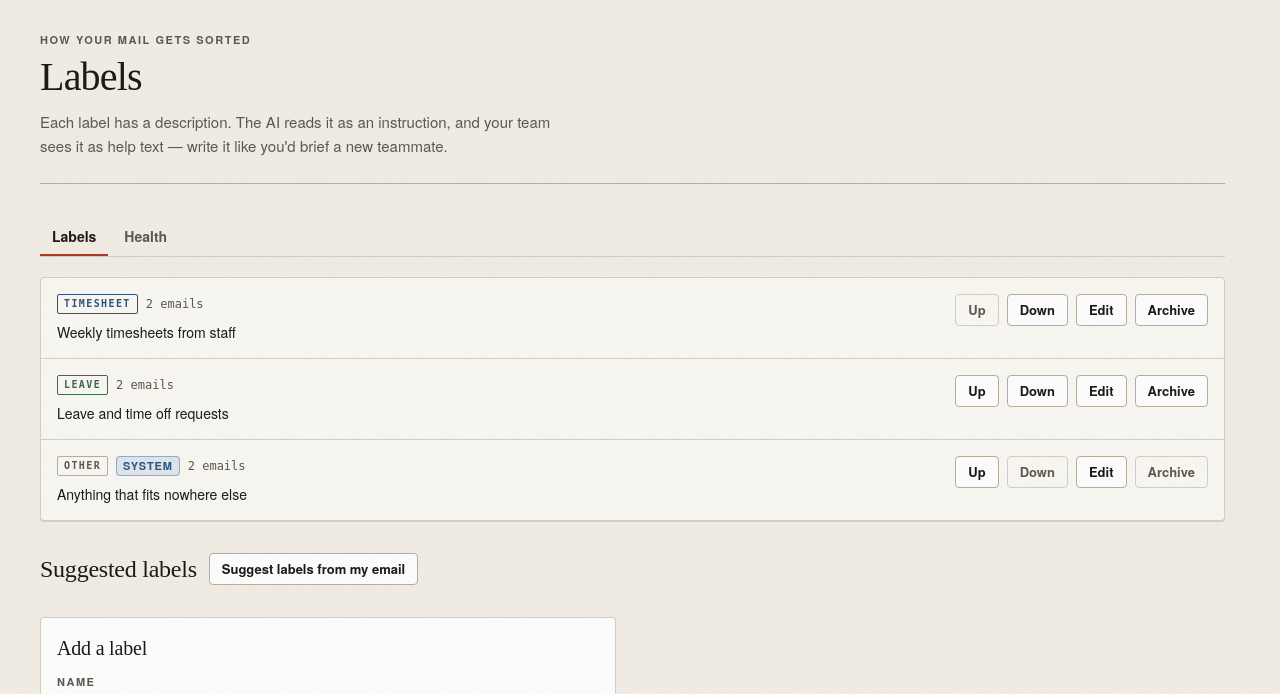
Test: Label health › shows the headline, a row per label with a plain-words badge, sparklines and advice
Click the tab "Health": (146, 236) x1=112 y1=216 x2=179 y2=256
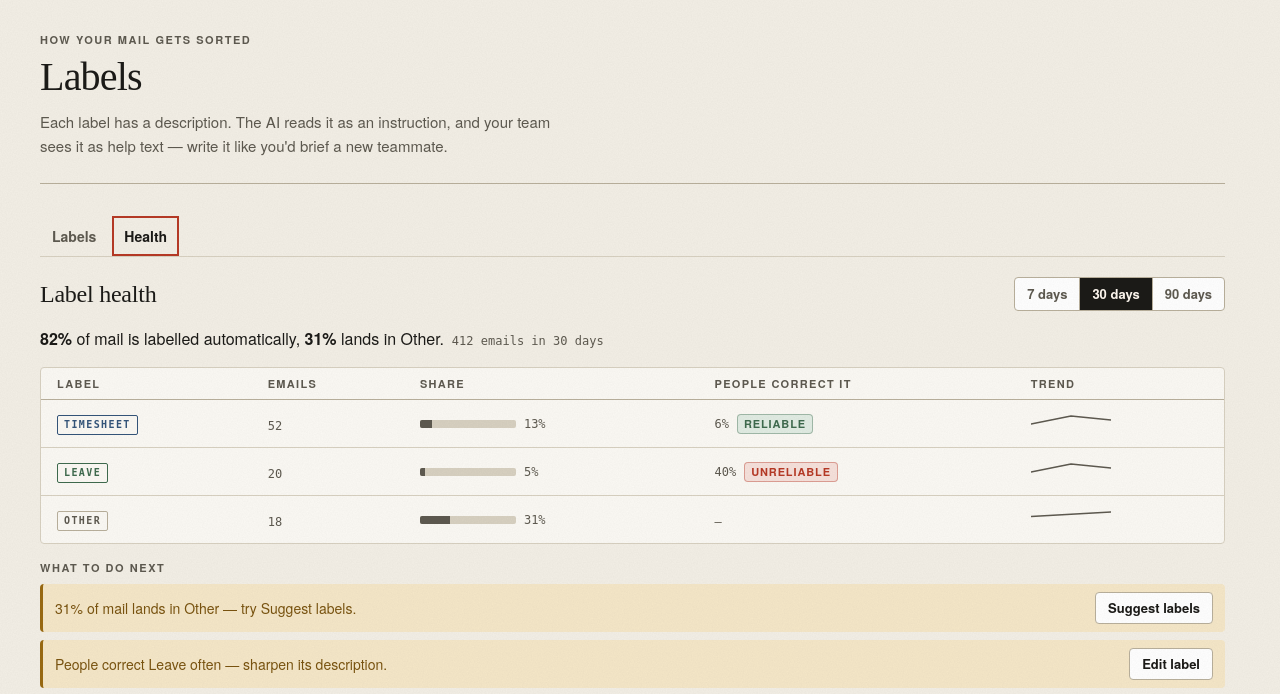
Now the text "82%" is shown, box x1=40 y1=327 x2=72 y2=350
Now the message shows "82% of mail is labelled automatically, 31% lands in Other.", box x1=40 y1=327 x2=604 y2=350
Now the text "52" is shown, box x1=268 y1=419 x2=282 y2=433
